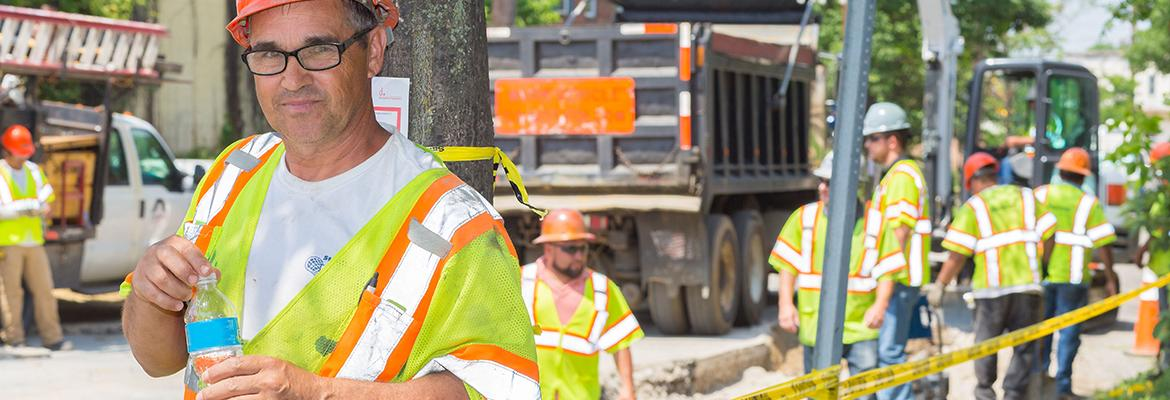helmet: (221, 1, 401, 34), (530, 205, 605, 258), (954, 150, 1000, 193), (1059, 140, 1101, 187), (862, 102, 914, 136), (1, 125, 40, 163), (812, 147, 839, 187), (1148, 137, 1170, 186)
